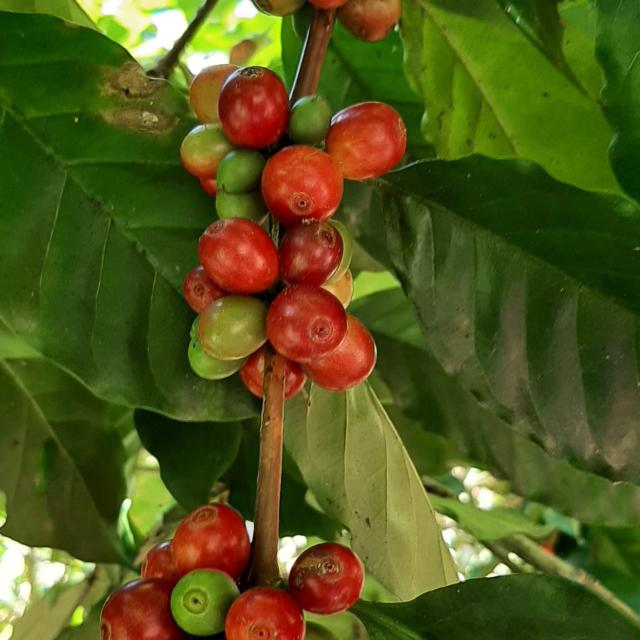green: (170, 569, 239, 637), (188, 316, 247, 380), (287, 94, 331, 146), (216, 148, 265, 193), (215, 189, 268, 222)
red: (262, 145, 343, 226), (325, 101, 407, 180), (266, 284, 348, 363), (198, 218, 280, 295), (171, 504, 250, 581), (218, 65, 290, 148), (301, 314, 377, 392), (288, 544, 365, 616), (99, 579, 189, 640), (224, 588, 306, 640), (279, 222, 343, 286), (182, 266, 229, 314), (140, 542, 180, 583), (238, 347, 265, 398), (285, 360, 307, 400)
yellow: (197, 295, 267, 361), (179, 124, 236, 178), (189, 63, 237, 123), (337, 0, 401, 42)
